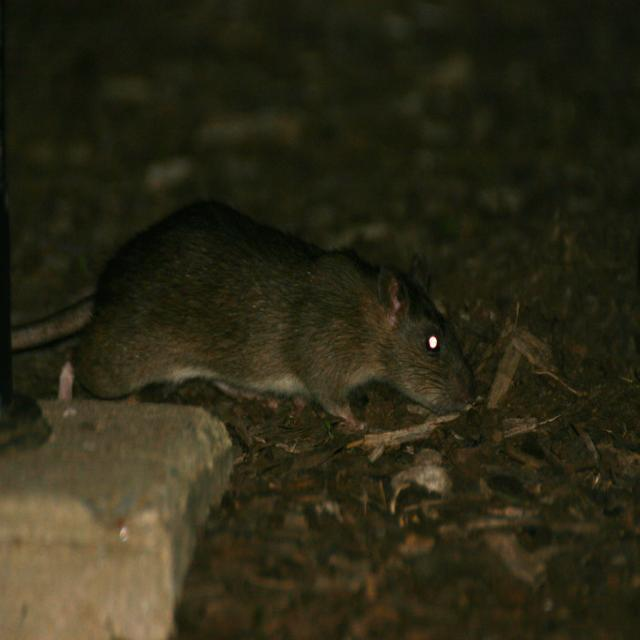rat: (12, 198, 484, 429)
